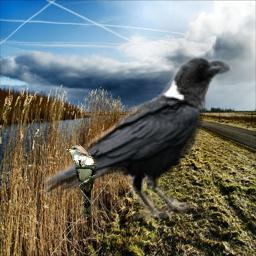Crow: (40, 51, 235, 220)
Cuckoo: (63, 145, 98, 217)
